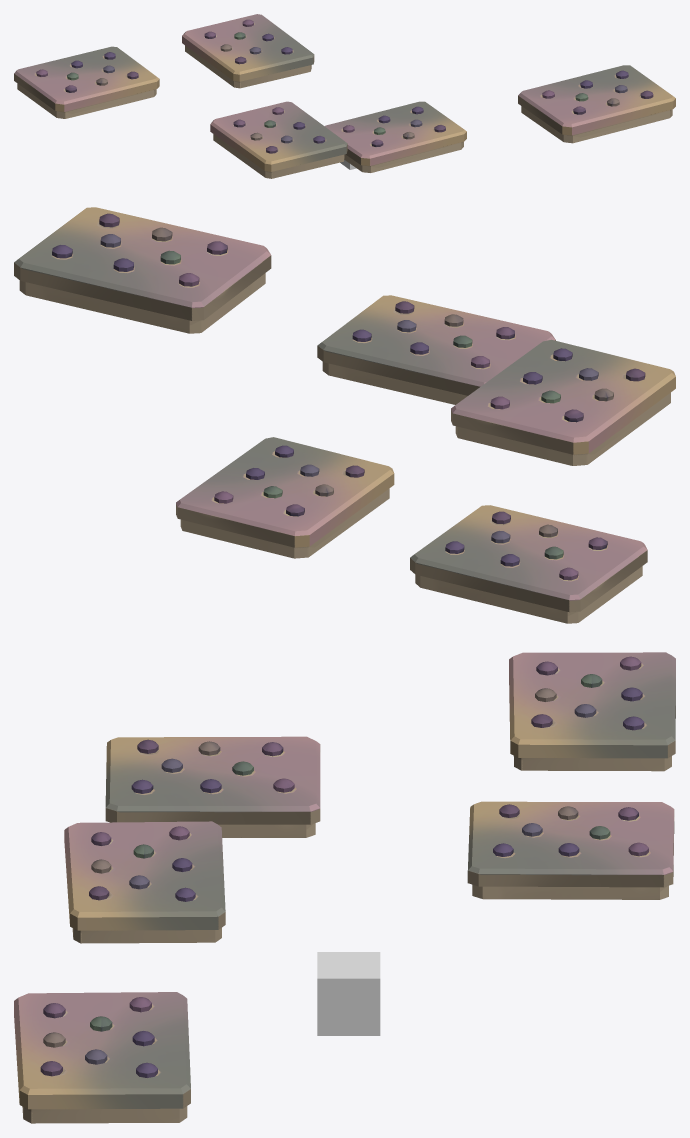
Rendered from trade-floor001.fbx.
3 renders of one model, top to bottom at view 1: azimuth 30°, elevation 25°; view 2: azimuth 150°, elevation 25°; view 3: azimuth 270°, elevation 25°, orthographic. The views are drawn at different scales.
Parts seen in each view (by area): view 1: floor.009, floor.006, floor.007, floor.005, floor.008; view 2: floor.009, floor.006, floor.007, floor.005, floor.008; view 3: floor.009, floor.005, floor.006, floor.007, floor.008, trade-floor001.
Part boxes in pixels (x1=…): floor.009: x1=518, y1=65, x2=675, y2=143; floor.006: x1=210, y1=101, x2=347, y2=178; floor.007: x1=14, y1=46, x2=159, y2=118; floor.005: x1=182, y1=14, x2=314, y2=88; floor.008: x1=324, y1=101, x2=466, y2=172; floor.009: x1=14, y1=207, x2=271, y2=333; floor.006: x1=451, y1=339, x2=675, y2=465; floor.007: x1=410, y1=505, x2=647, y2=623; floor.005: x1=176, y1=437, x2=394, y2=558; floor.008: x1=317, y1=295, x2=555, y2=404; floor.009: x1=14, y1=992, x2=190, y2=1123; floor.005: x1=467, y1=801, x2=674, y2=899; floor.006: x1=105, y1=736, x2=320, y2=837; floor.007: x1=509, y1=652, x2=675, y2=771; floor.008: x1=64, y1=821, x2=225, y2=943; trade-floor001: x1=317, y1=952, x2=380, y2=1035.
Size of the model in its own units: 1228 by 217 by 817.
